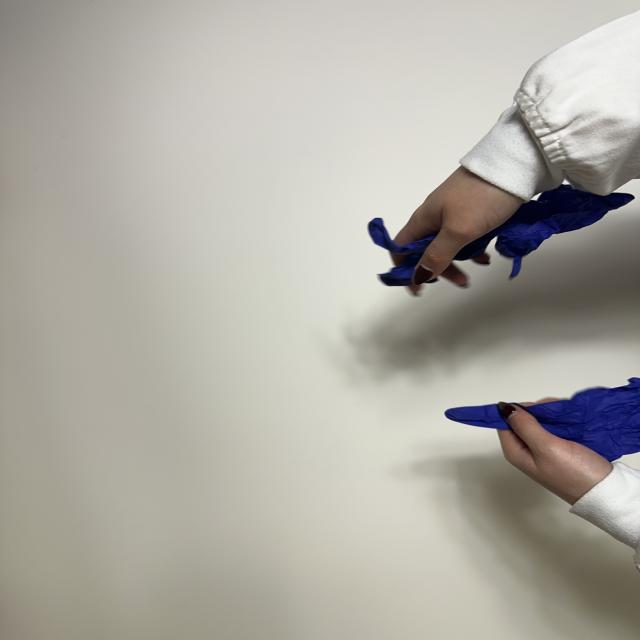glove_not_fitted: (370, 172, 633, 286), (445, 378, 640, 505)
